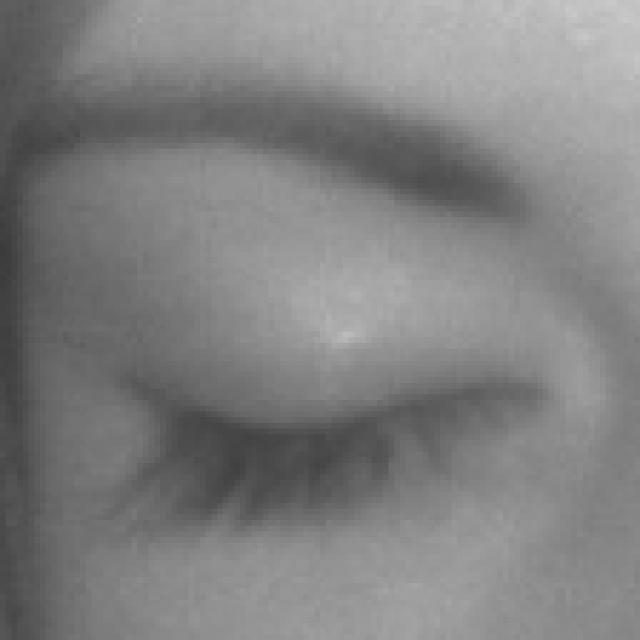Eyeclosed: (124, 227, 548, 640)
